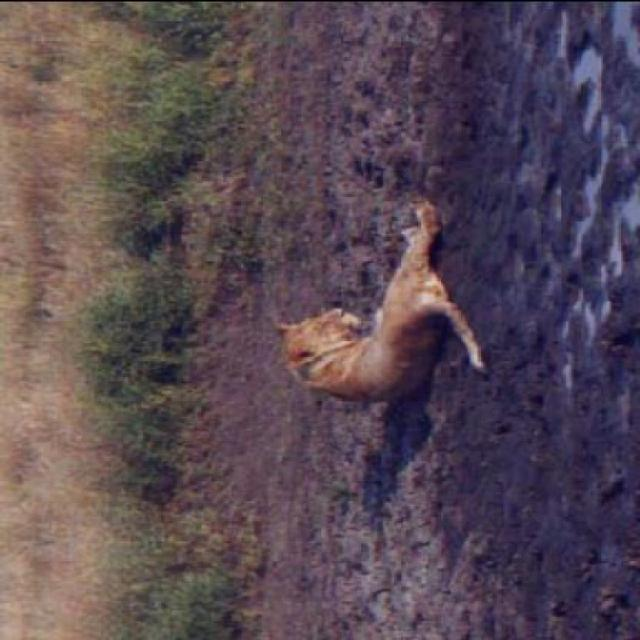Lion: (270, 186, 528, 429)
